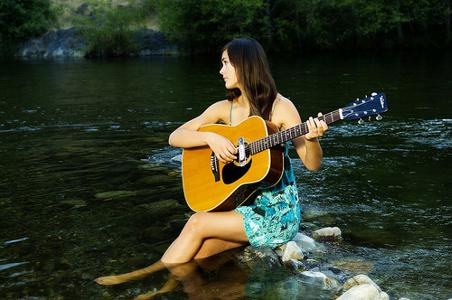person: (97, 36, 328, 300)
